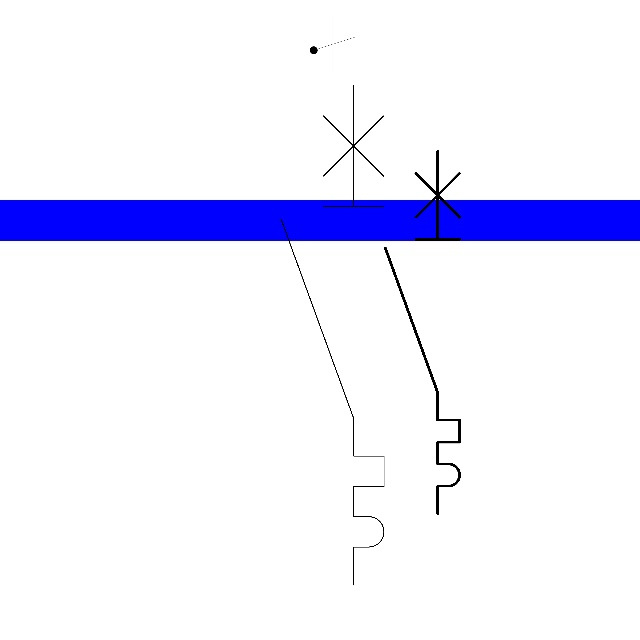interruptor_termomagnetico: (268, 72, 397, 598), (376, 142, 469, 523)
